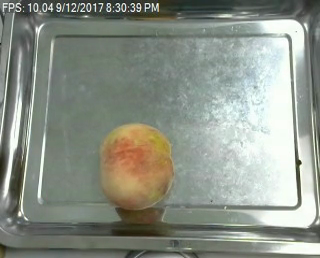Peach: (98, 121, 174, 210)
